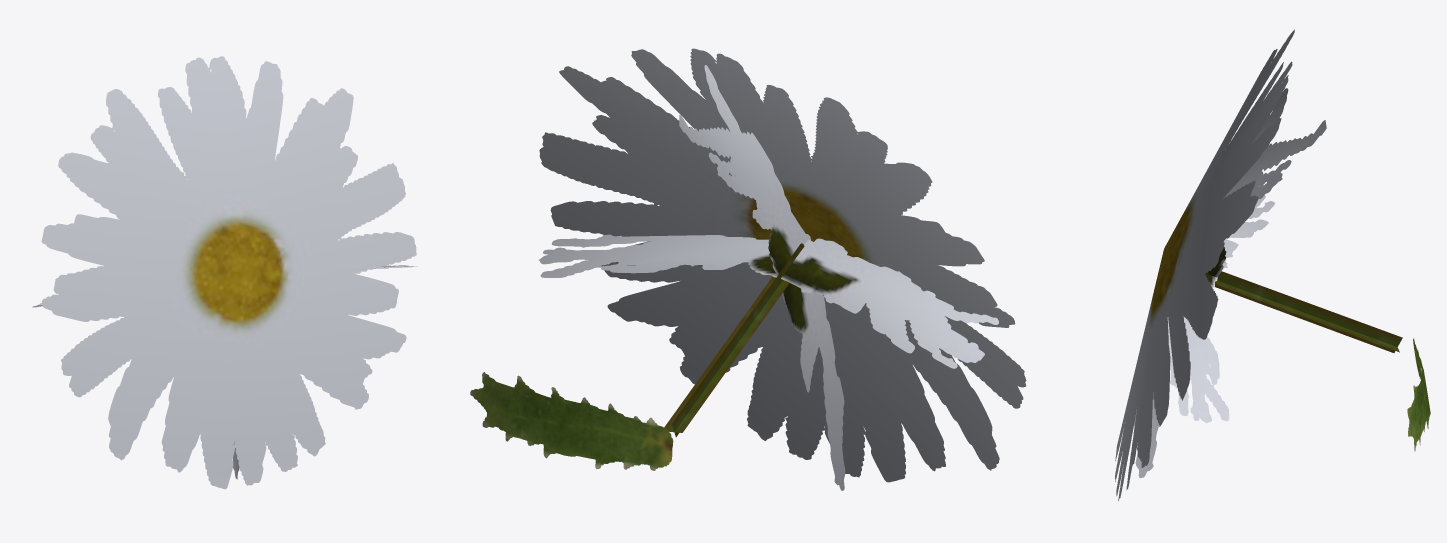
The model's file is daisy.glb.
The picture shows the model from 3 angles, left to right: view 1: azimuth 30°, elevation 25°; view 2: azimuth 150°, elevation 25°; view 3: azimuth 270°, elevation 25°; orthographic projection. The views are drawn at different scales.
Visible parts, largest first — view 1: FlowerHead; view 2: FlowerHead; view 3: FlowerHead.
Boxes of the visible parts, x1=… form: FlowerHead: x1=32, y1=56, x2=417, y2=489; FlowerHead: x1=470, y1=48, x2=1026, y2=490; FlowerHead: x1=1115, y1=29, x2=1430, y2=501.
Size of the model in its own units: 0.2857 by 0.2811 by 0.166.
1 material, 1 textured.
